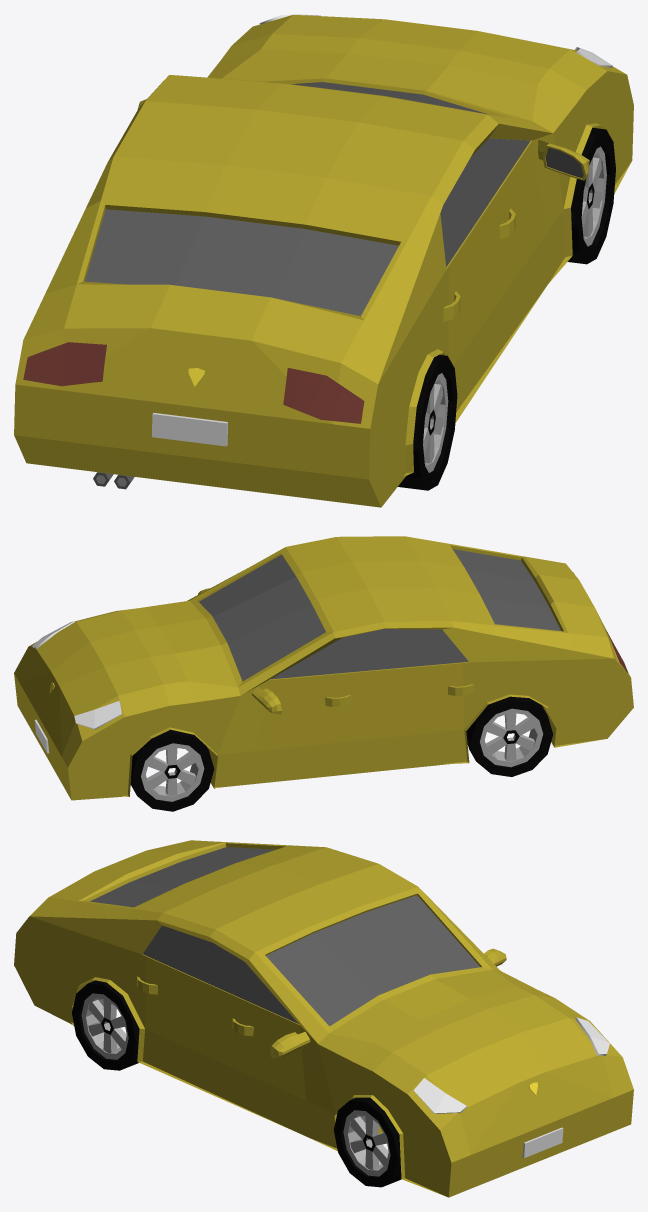
The model's file is Car A Yellow.fbx.
The picture shows the model from 3 angles, top to bottom: view 1: azimuth 30°, elevation 25°; view 2: azimuth 150°, elevation 25°; view 3: azimuth 270°, elevation 25°; orthographic projection. The views are drawn at different scales.
Parts seen in each view (by area): view 1: Car A Yellow; view 2: Car A Yellow; view 3: Car A Yellow.
Boxes of the visible parts, x1,y1,x2,y2 form: Car A Yellow: (14, 14, 633, 507); Car A Yellow: (14, 536, 633, 811); Car A Yellow: (14, 840, 633, 1197).
Size of the model in its own units: 526 by 515 by 164.
